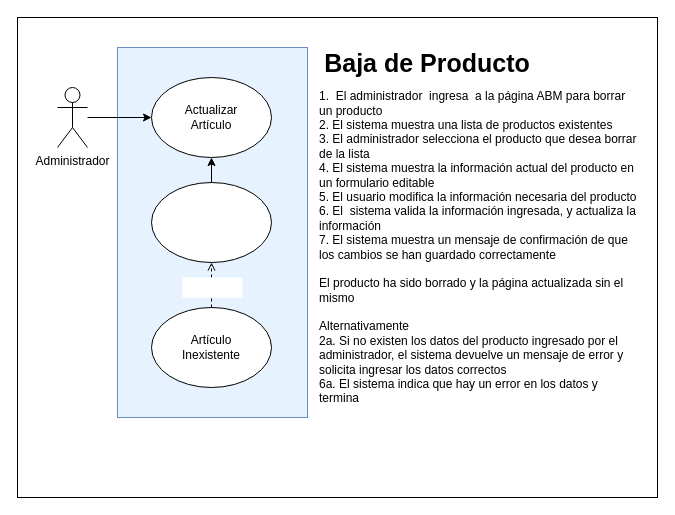
Image size: 675x515. Some labels were removed from this diagram. Here are the shapes that lost their labels. From the top down, the centre of each, then its label:
At [211,222]: "Borrar".
At [212,287]: "Extiende".
